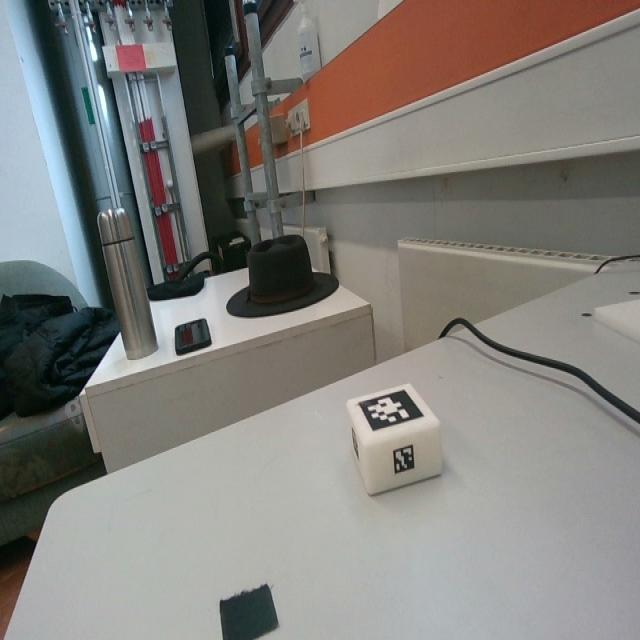Cube: (347, 378, 441, 494)
